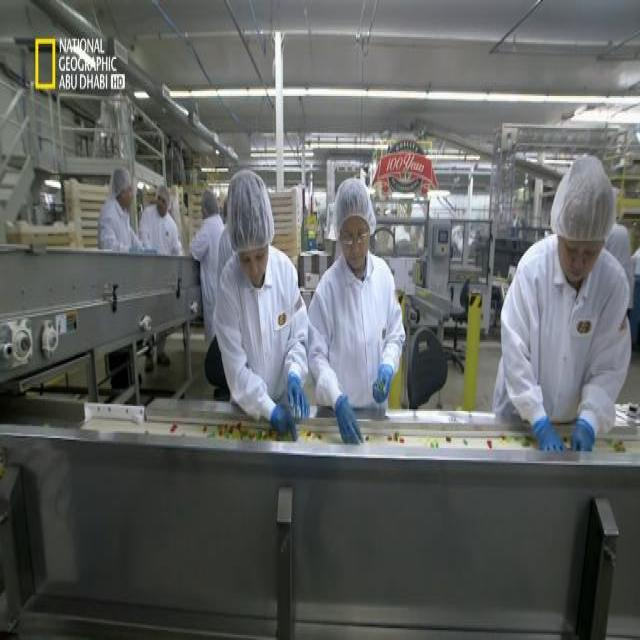hairnet: (549, 154, 614, 239), (226, 170, 274, 250), (332, 181, 377, 227), (198, 190, 218, 217), (110, 170, 131, 194), (156, 183, 170, 208)
